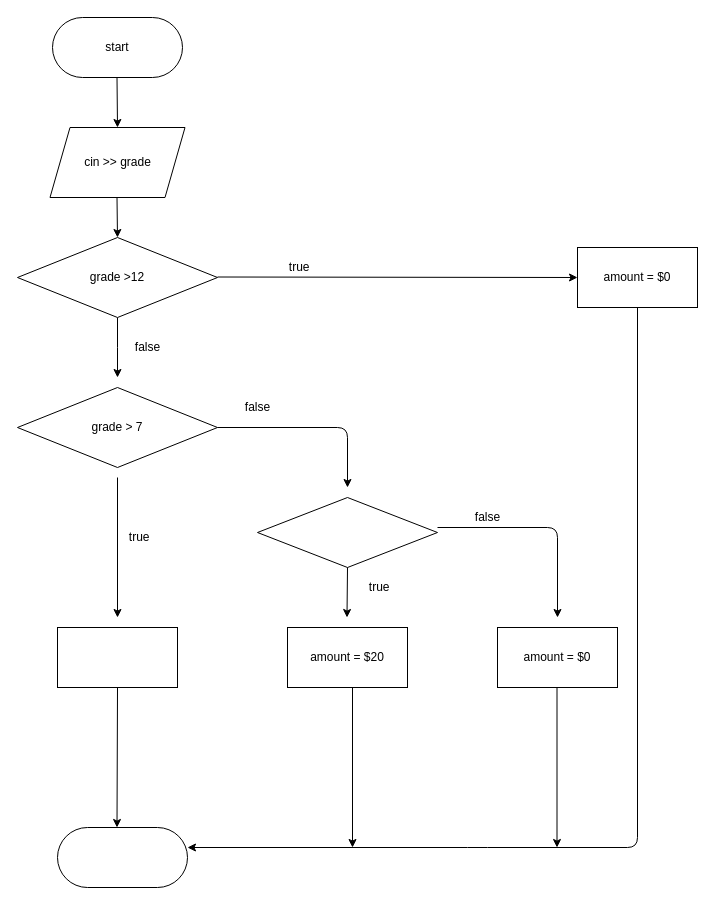
This 715x905 diagram has some shape labels left out. Here are the shapes that lost their labels. From the top down, the centre of each, then its label:
At point 347,532: "grade >=1".
At point 117,657: "amount = $30".
At point 122,857: "End".
